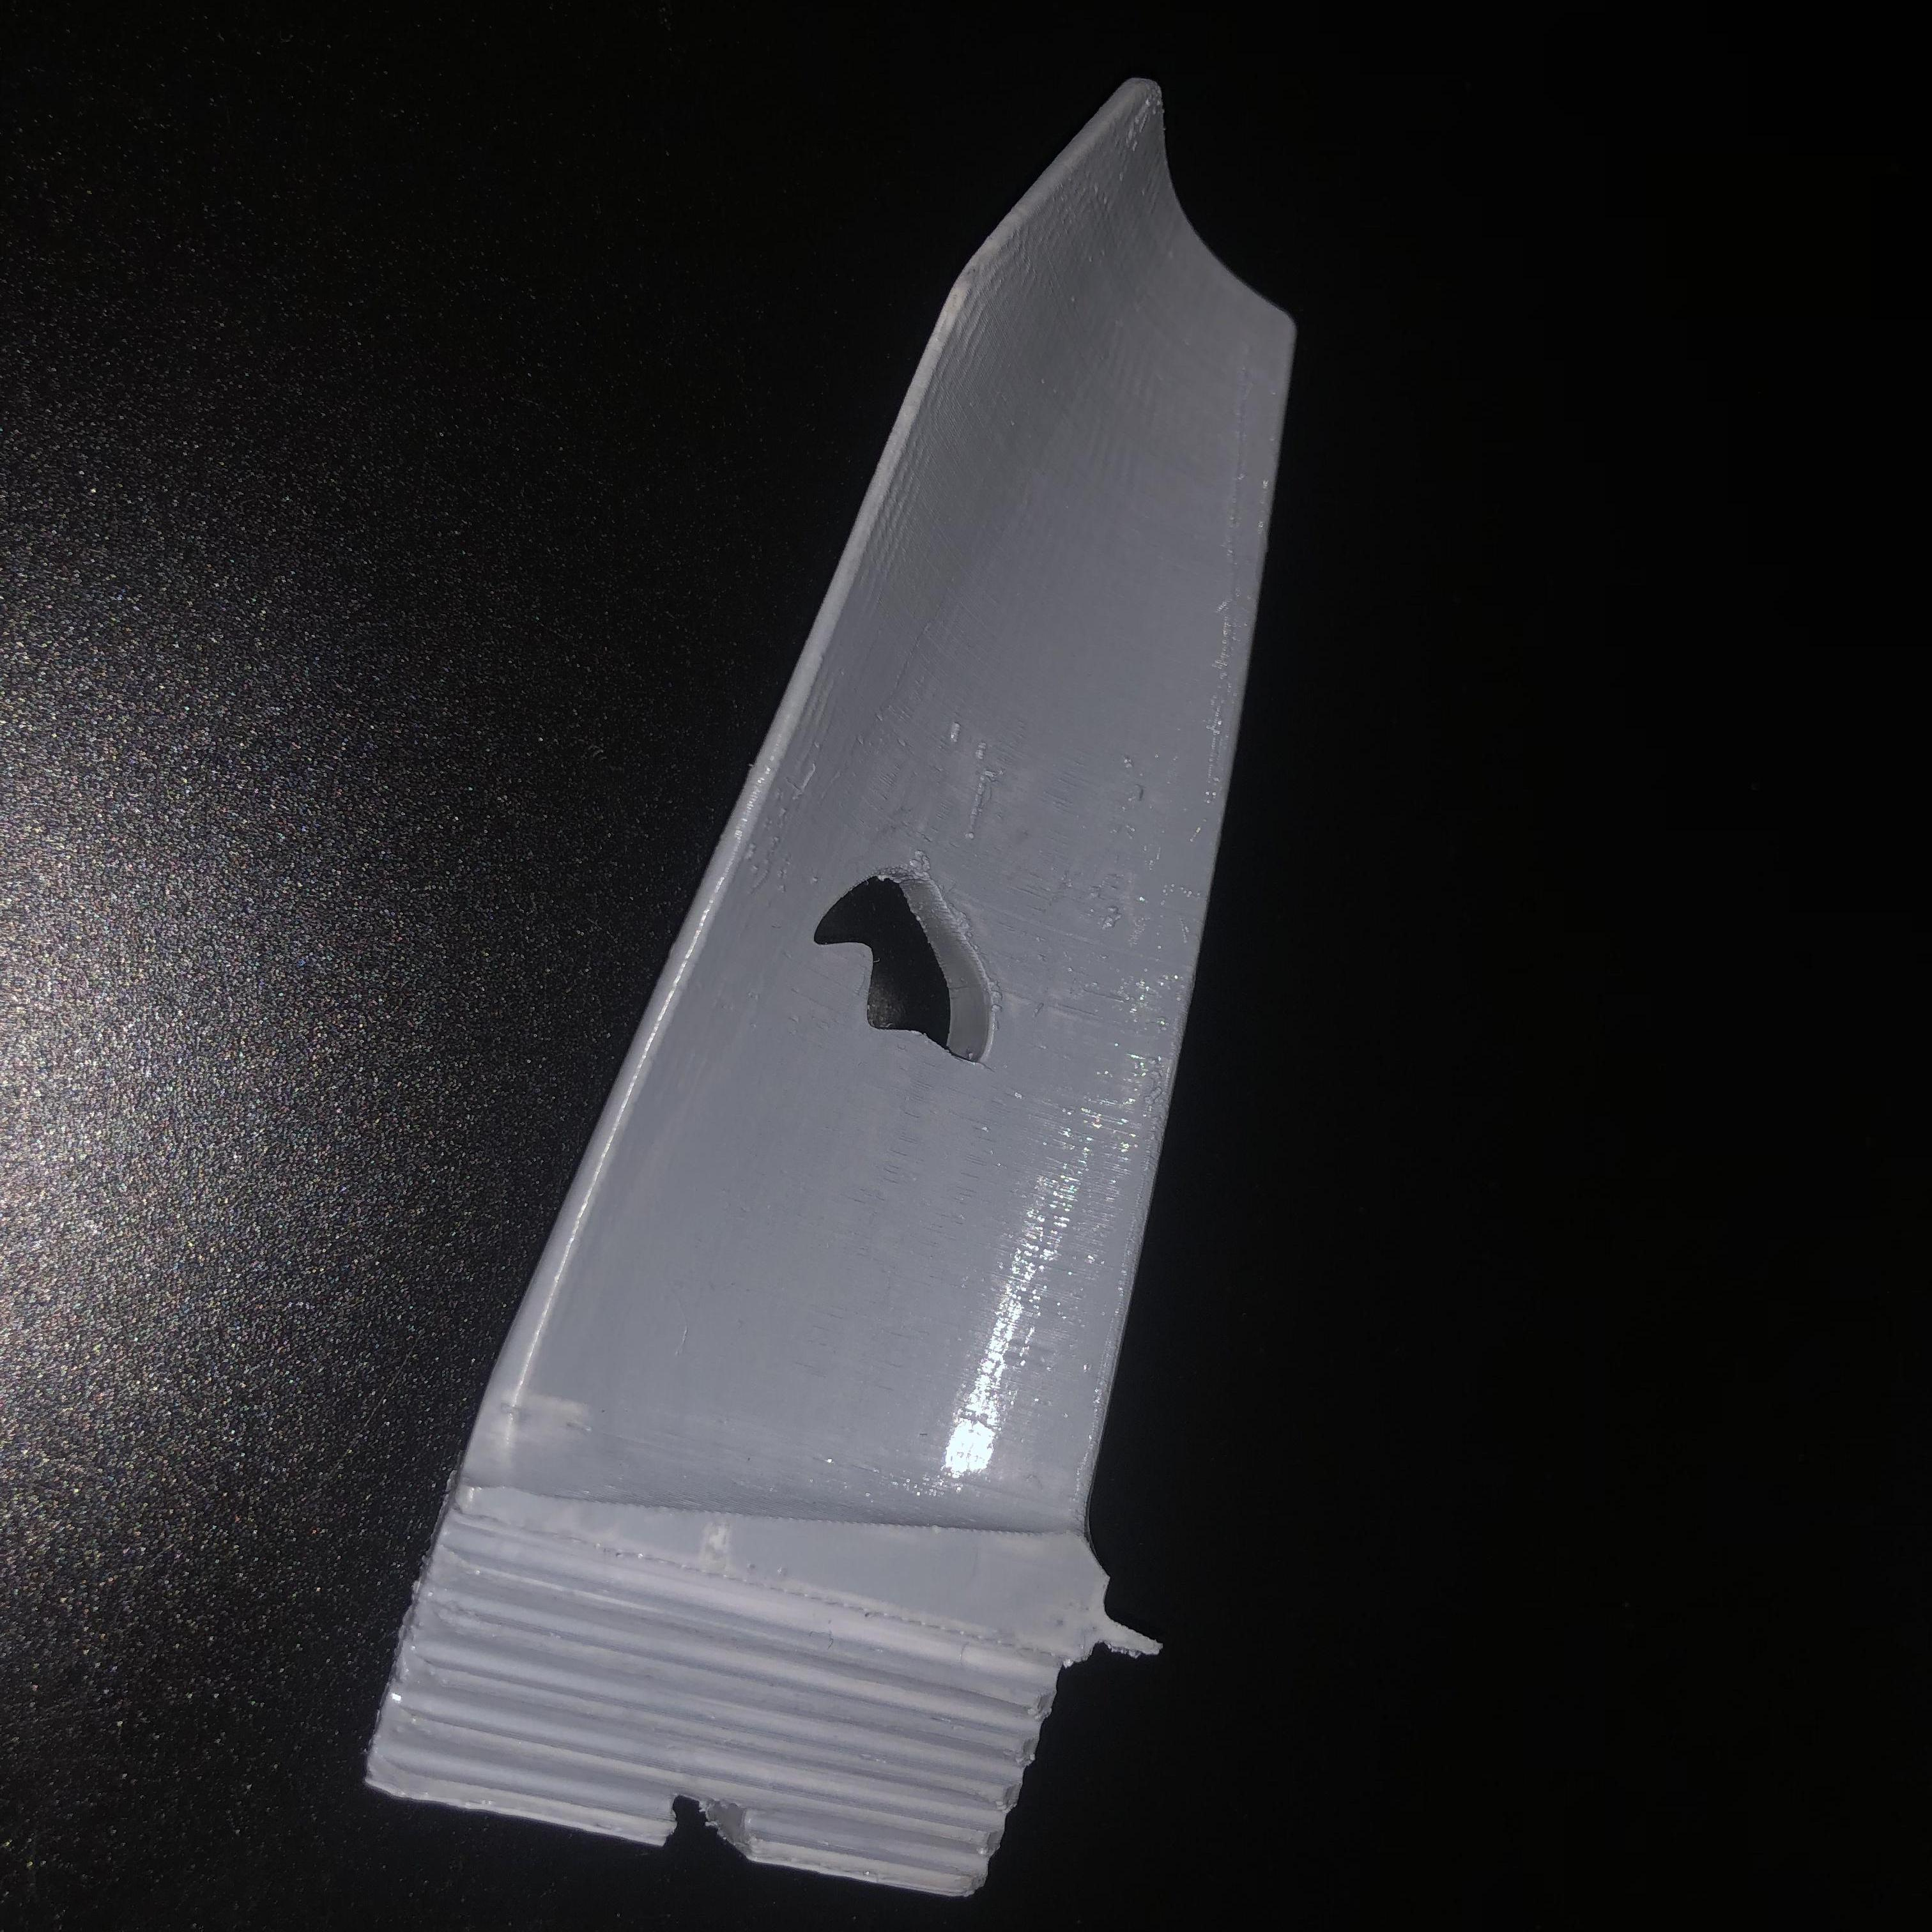breakdown: (816, 870, 1012, 1065)
